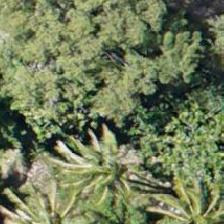coconut_tree: (75, 129, 165, 219), (152, 170, 223, 223)
